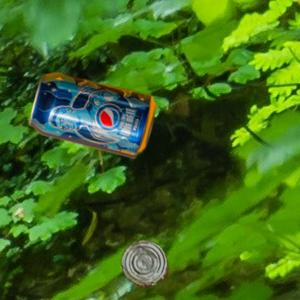can: (26, 69, 161, 158)
